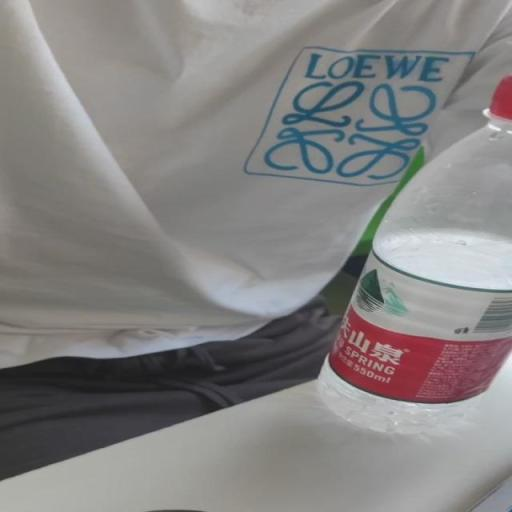plastic: (317, 76, 511, 434)
